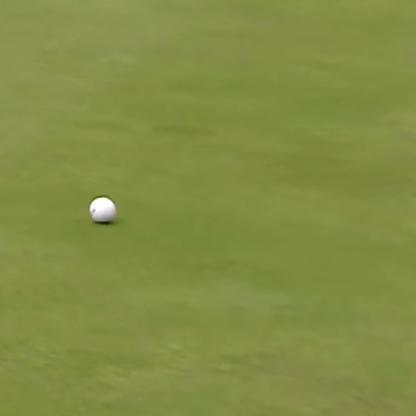golfball: (86, 194, 114, 222)
